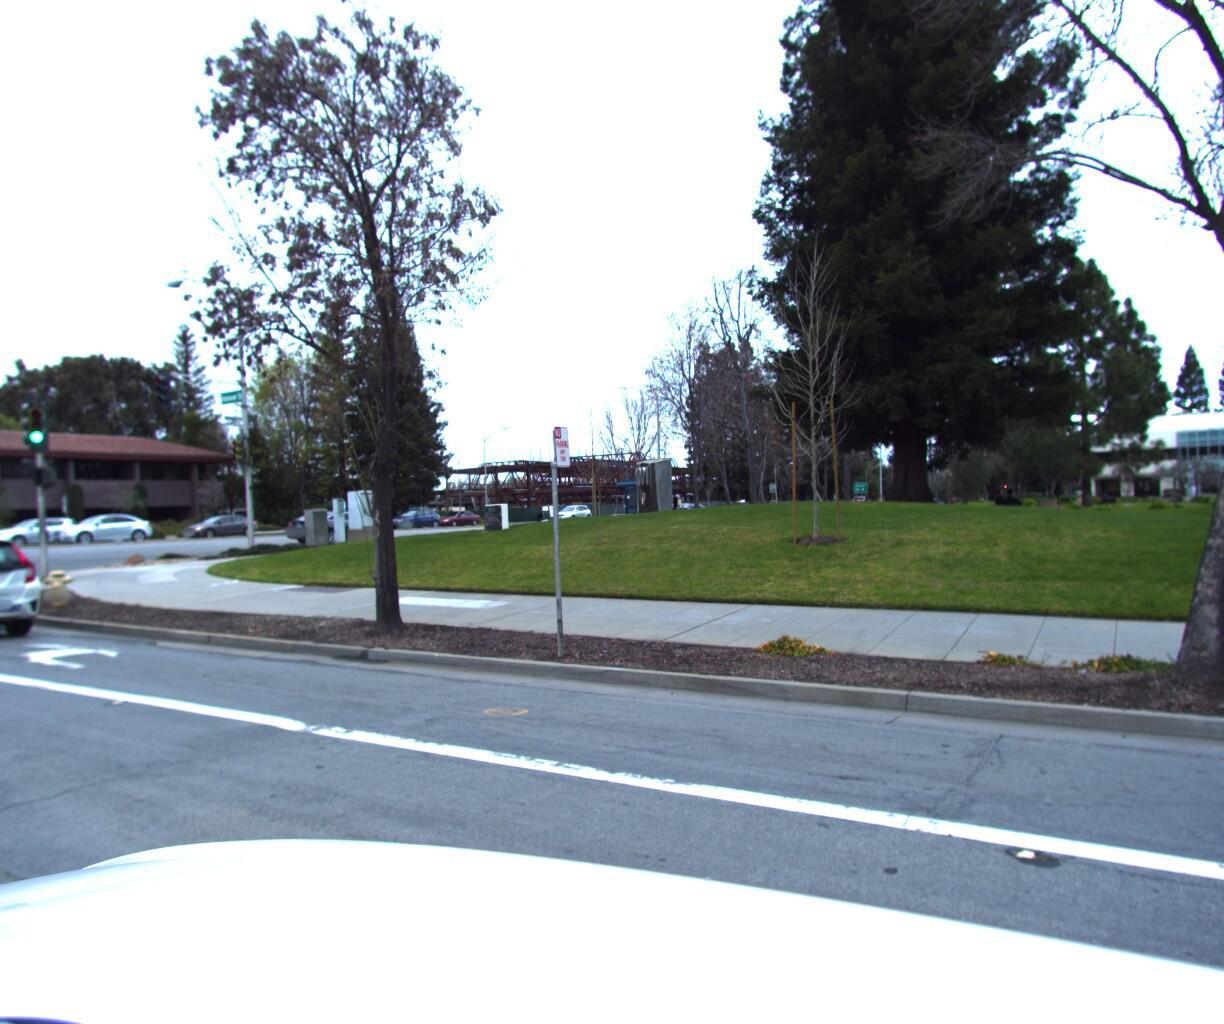car: (0, 527, 58, 655), (283, 506, 390, 543), (47, 511, 159, 544), (0, 515, 96, 549), (182, 508, 269, 538), (380, 503, 445, 529), (429, 506, 486, 528), (548, 503, 595, 523)
